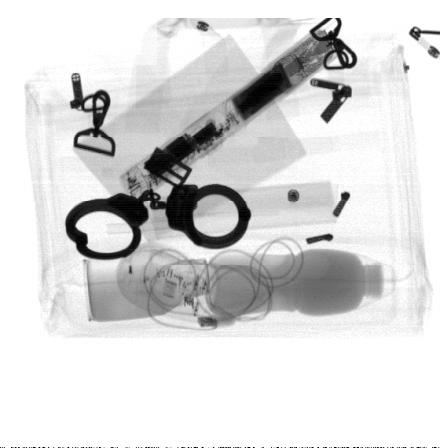Baton: (118, 27, 342, 206)
HandCuffs: (64, 182, 253, 261)
